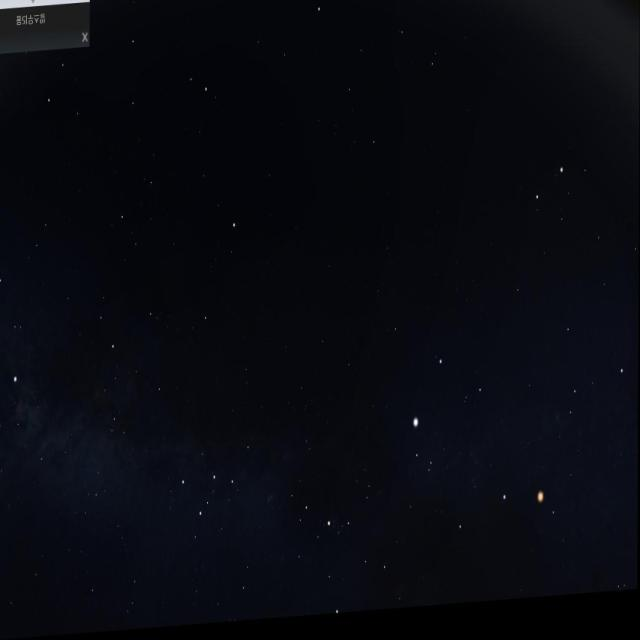cassiopeia: (180, 425, 263, 527)
